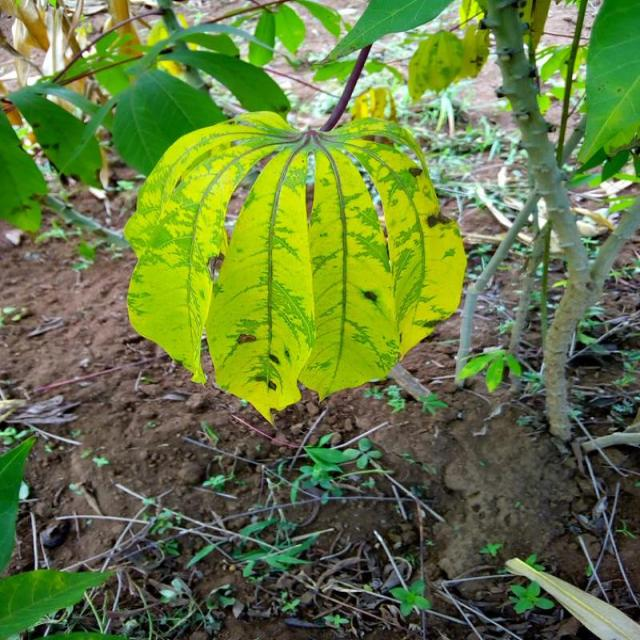cassava leaf: (124, 106, 466, 424), (204, 140, 315, 427)
